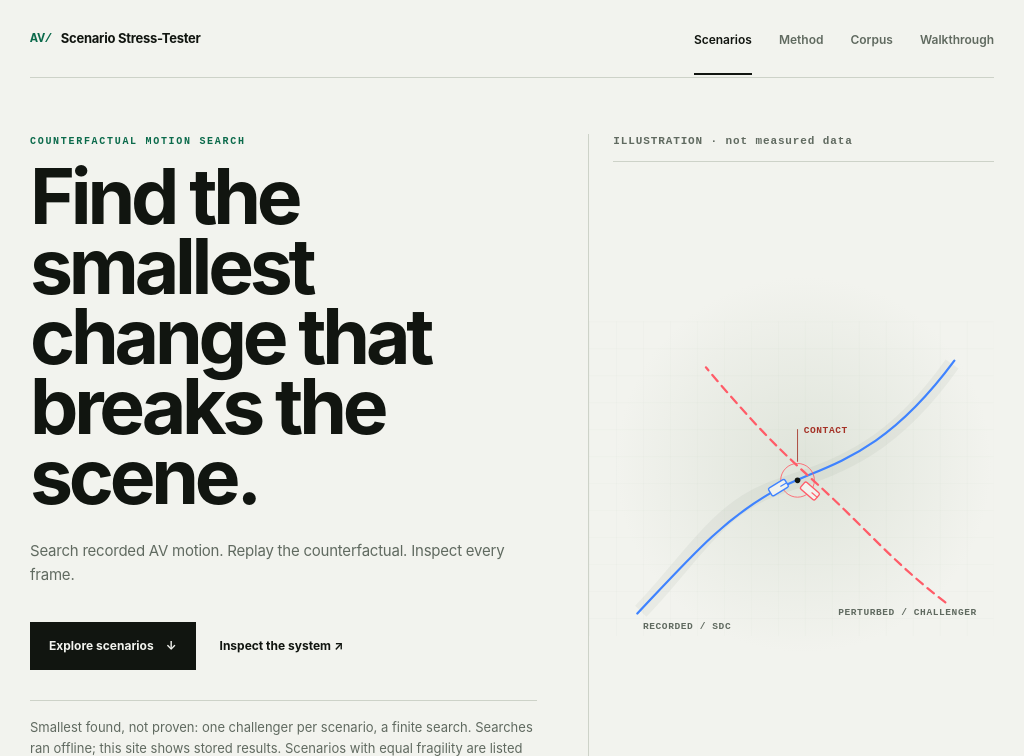
Test: navigation › reaches the corpus page from the header, and back
The width and height of the screenshot is (1024, 756).
Click the link "Corpus": (872, 39) top-left (850, 32), bottom-right (893, 47)
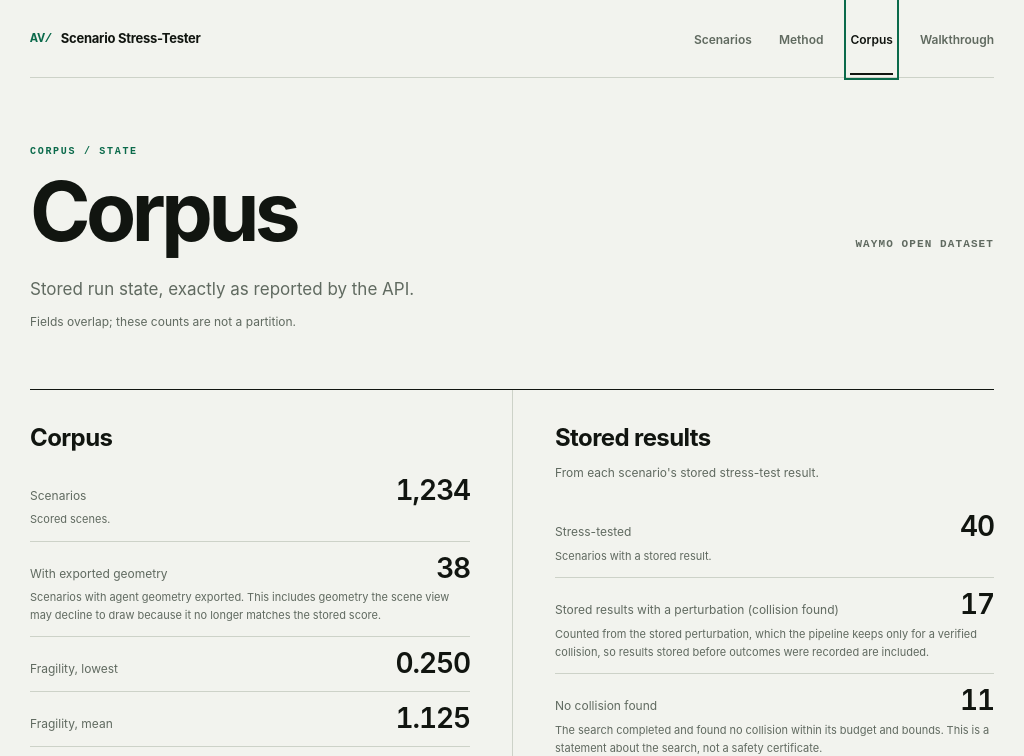
expect the heading "Corpus" below "CORPUS / STATE" is shown: met, box top-left (30, 172), bottom-right (296, 252)
Click the link "Scenarios": (723, 39) top-left (694, 32), bottom-right (752, 47)
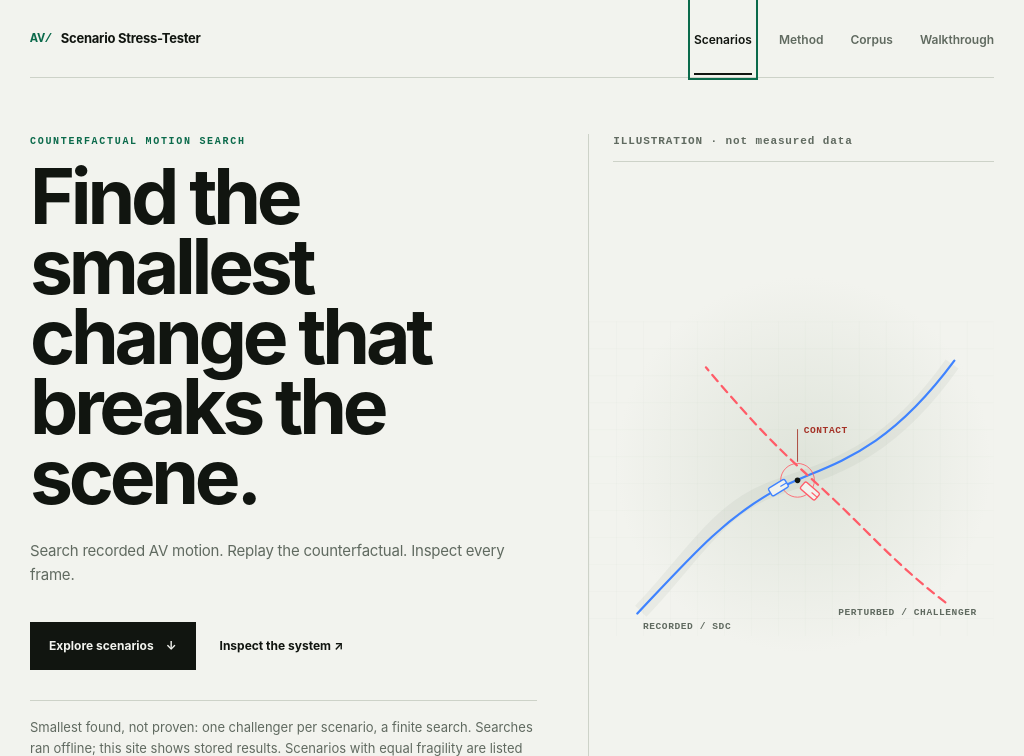
expect the heading "Find the smallest change that breaks the scene." is shown: met, box top-left (30, 150), bottom-right (430, 522)
